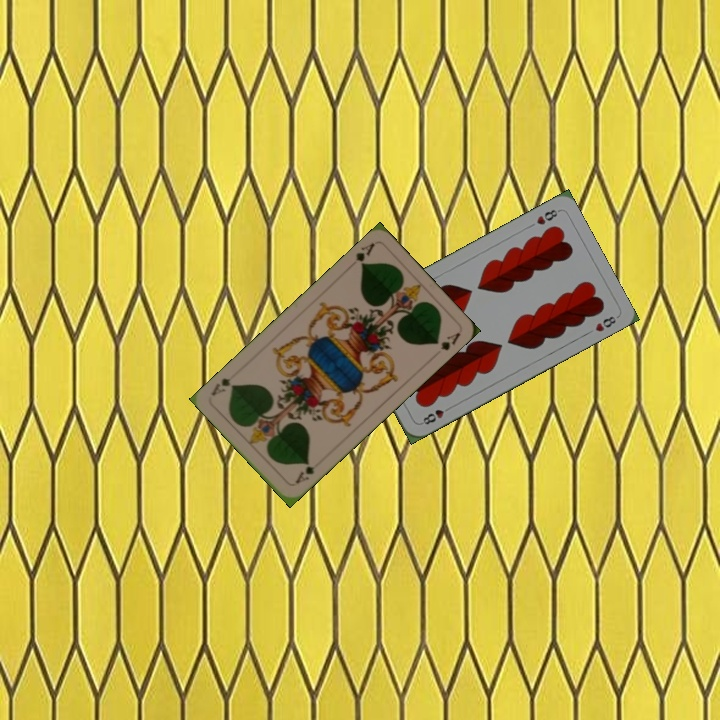GA: (351, 239, 377, 269), (291, 458, 317, 486)
H8: (417, 402, 454, 427), (532, 205, 562, 228)
